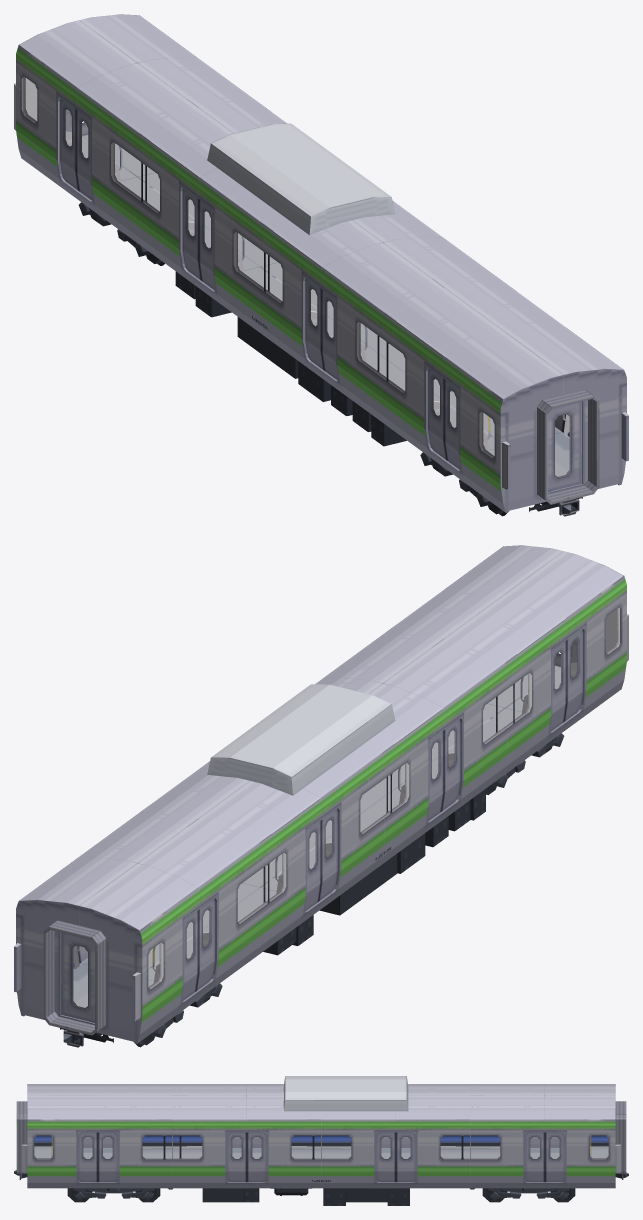
File: jr_east_moha_e230_500.obj
3 views of the same model, one above another, from view 1: azimuth 30°, elevation 25°; view 2: azimuth 150°, elevation 25°; view 3: azimuth 270°, elevation 25° (orthographic). The views are drawn at different scales.
Visible parts, largest first — view 1: body_ext, tail_ext, body_int, door_right_negative_ext, door_right_positive_ext, front_door; view 2: body_ext, tail_ext, body_int, door_right_positive_ext, door_right_negative_ext, back_door; view 3: body_ext, tail_ext, body_int, door_left_negative_ext, door_left_positive_ext, bogie_0, bogie_1, door_right_positive_int, door_right_negative_int.
Boxes of the visible parts, left/top/right/bottom form: body_ext: left=56, top=57, right=565, bottom=473; tail_ext: left=14, top=14, right=628, bottom=516; body_int: left=23, top=76, right=569, bottom=476; door_right_negative_ext: left=60, top=98, right=446, bottom=460; door_right_positive_ext: left=76, top=109, right=460, bottom=469; front_door: left=548, top=401, right=581, bottom=491; body_ext: left=77, top=588, right=586, bottom=1004; tail_ext: left=14, top=545, right=628, bottom=1047; body_int: left=73, top=607, right=619, bottom=1007; door_right_positive_ext: left=196, top=629, right=582, bottom=991; door_right_negative_ext: left=182, top=640, right=566, bottom=1000; back_door: left=61, top=932, right=94, bottom=1022; body_ext: left=76, top=1076, right=566, bottom=1205; tail_ext: left=14, top=1084, right=628, bottom=1188; body_int: left=34, top=1135, right=608, bottom=1159; door_left_negative_ext: left=98, top=1132, right=564, bottom=1182; door_left_positive_ext: left=78, top=1132, right=544, bottom=1182; bogie_0: left=73, top=1188, right=154, bottom=1200; bogie_1: left=488, top=1188, right=569, bottom=1200; door_right_positive_int: left=83, top=1137, right=539, bottom=1147; door_right_negative_int: left=103, top=1137, right=559, bottom=1147.
Bounding box in the file's own units: 2.94 × 4.03 × 20.38.
4 materials, 4 textured.
